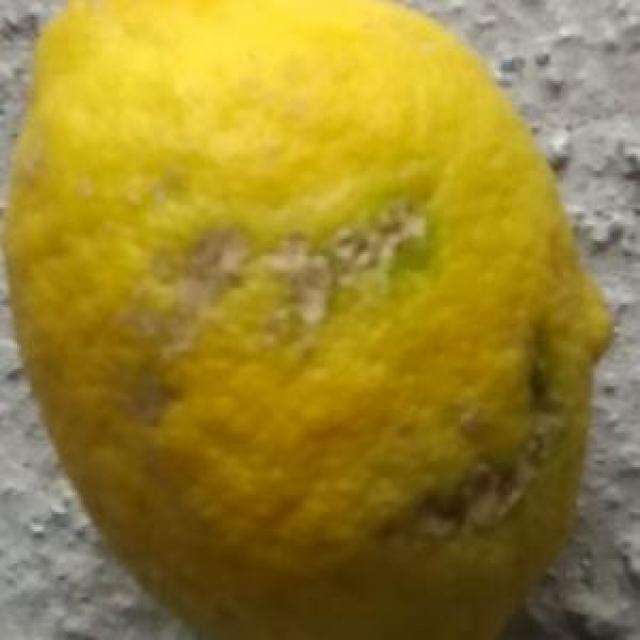lemon: (2, 2, 623, 640)
